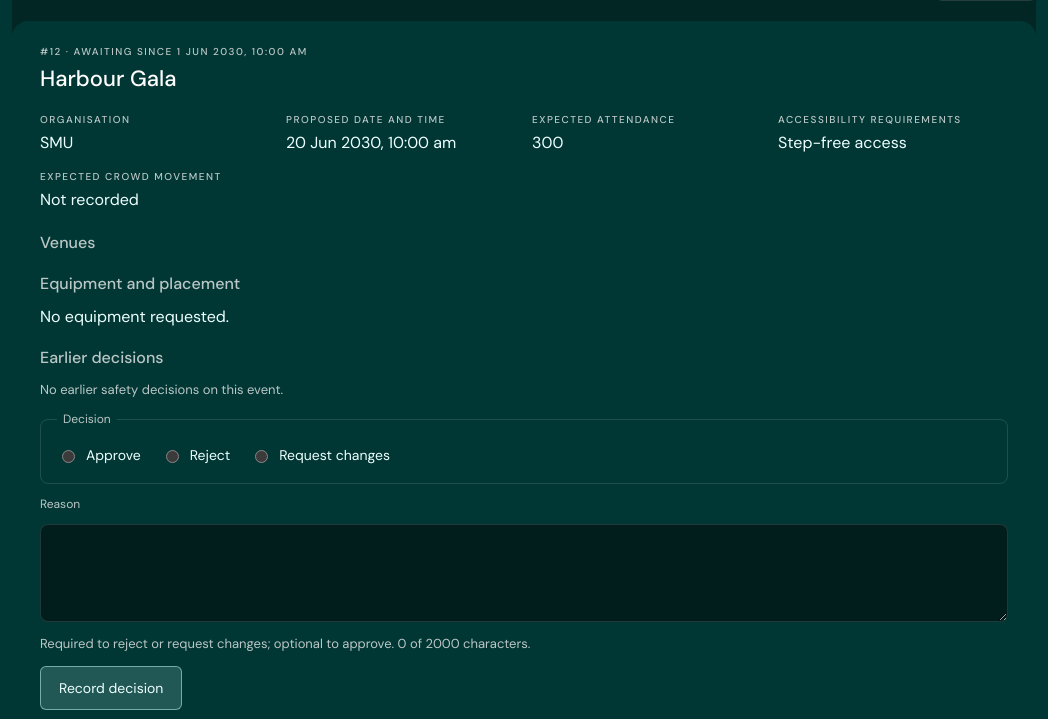
Scenario: the decision form on each review (SG2-92 AC1–AC5) › [FAILURE] [SG2-92:AC1] an unreachable server keeps the decision on screen so it can be sent again
The width and height of the screenshot is (1048, 719).
Click the radio button labelled "Reject".
click(172, 457)  # box x1=166 y1=450 x2=179 y2=463
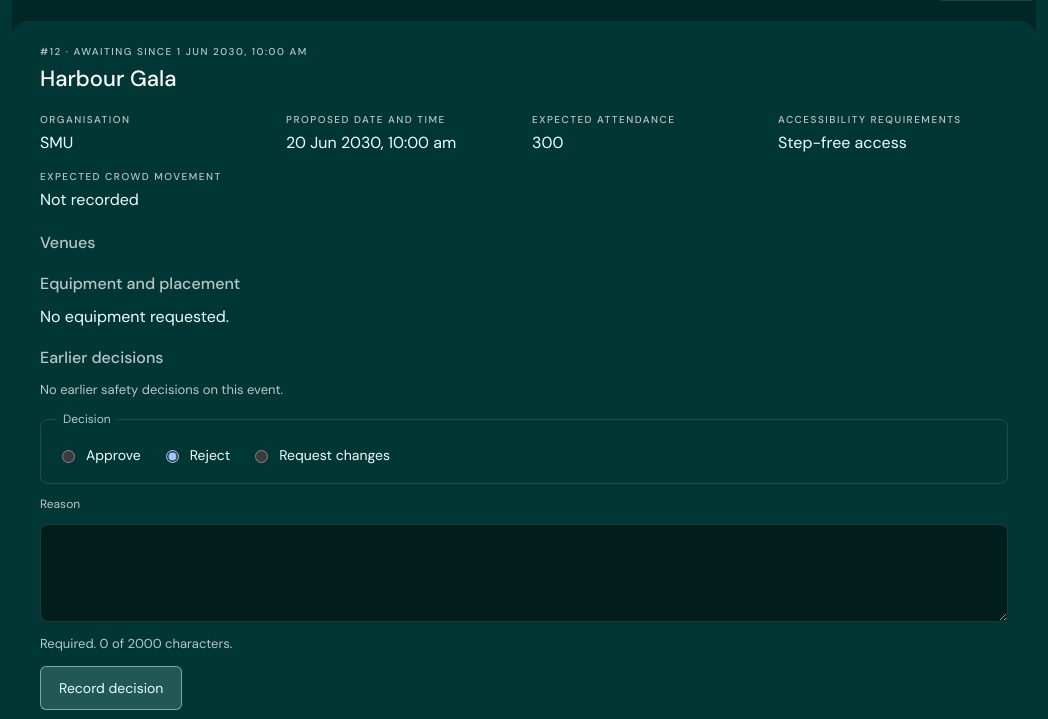
Type "Fire exit blocked" into the text box labelled "Reason".
click(524, 573); type("Fire exit blocked")  # box x1=40 y1=524 x2=1008 y2=622
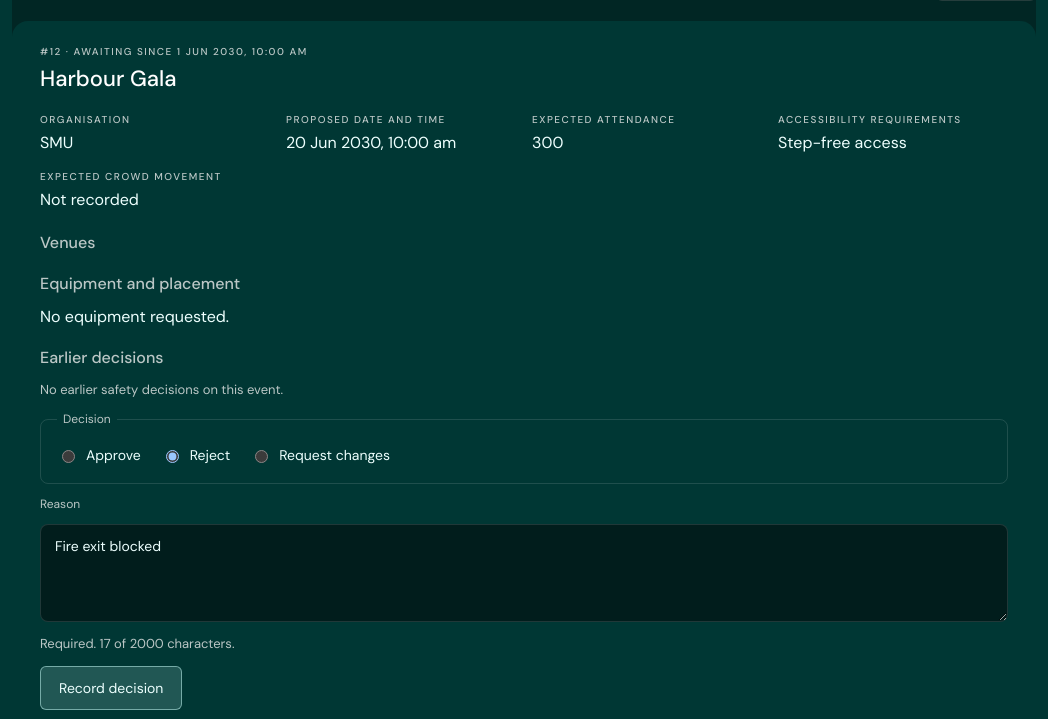
Click the button "Record decision".
click(111, 688)  # box x1=40 y1=666 x2=182 y2=710
(page scrolled)
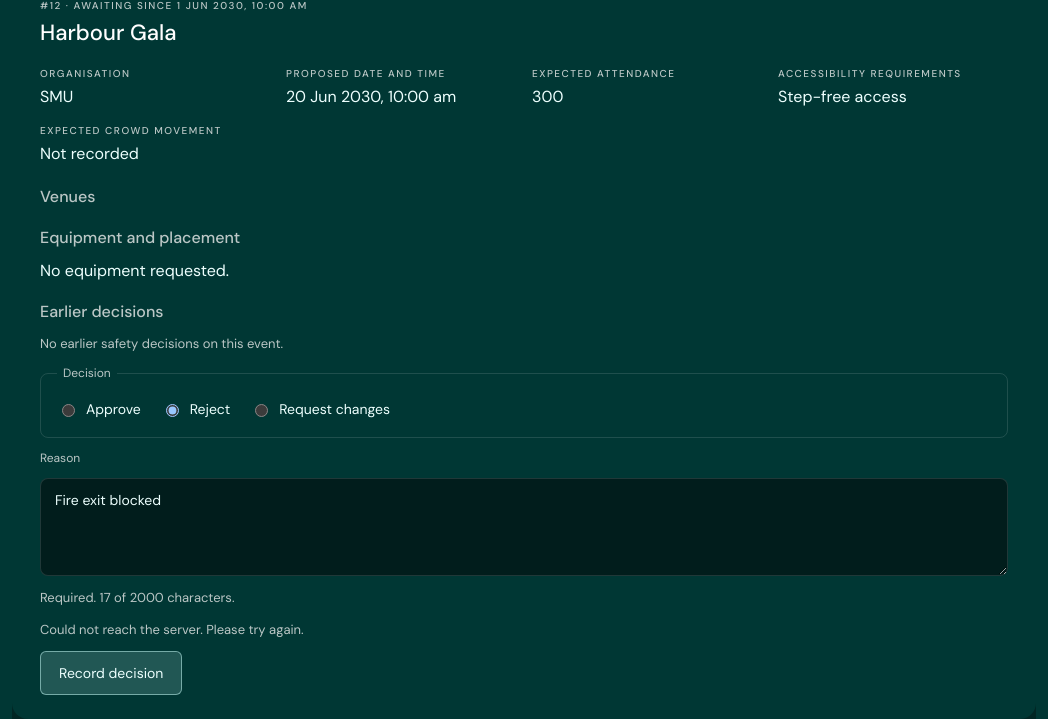
Expected: the button "Record decision" is enabled, x1=40 y1=651 x2=182 y2=695
Expected: the message reads "Could not reach the server. Please try again.", x1=40 y1=621 x2=304 y2=638
